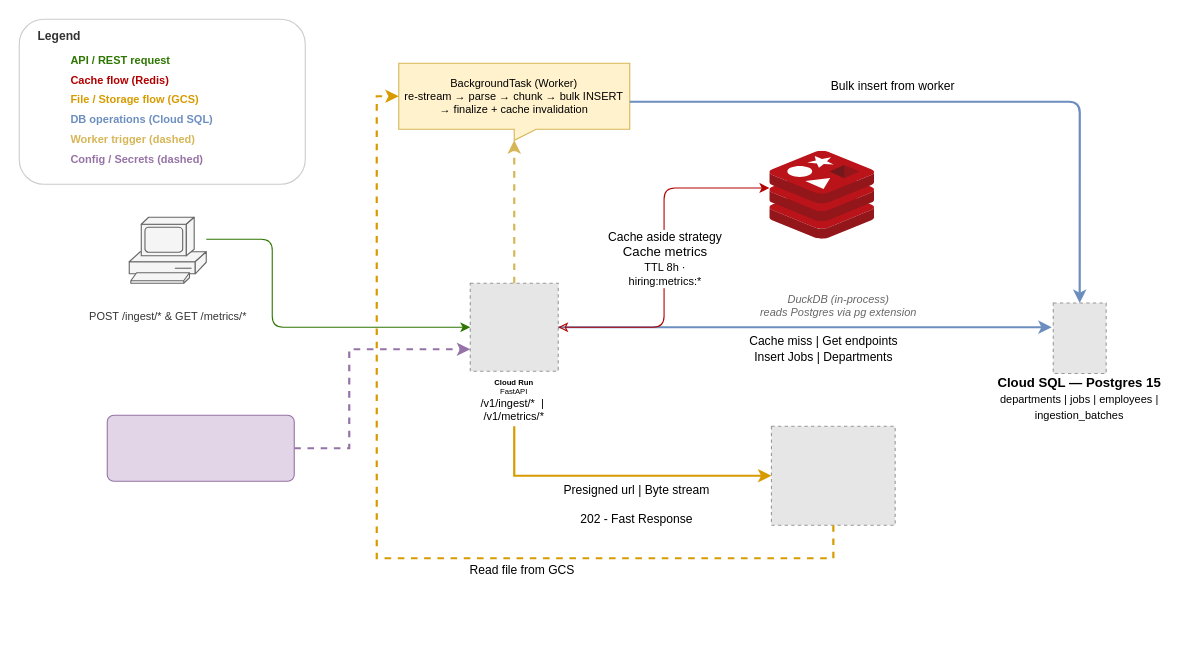
Some shapes in this 1198 by 666 pixel diagram are drawn without their labels. Grey dashed boxes stand in for pictures. Each missing label, with the centre of its shape:
"HTTP Client" goes at (167,249).
"Secret Manager DATABASE_URL · REDIS_URL" goes at (200,447).
